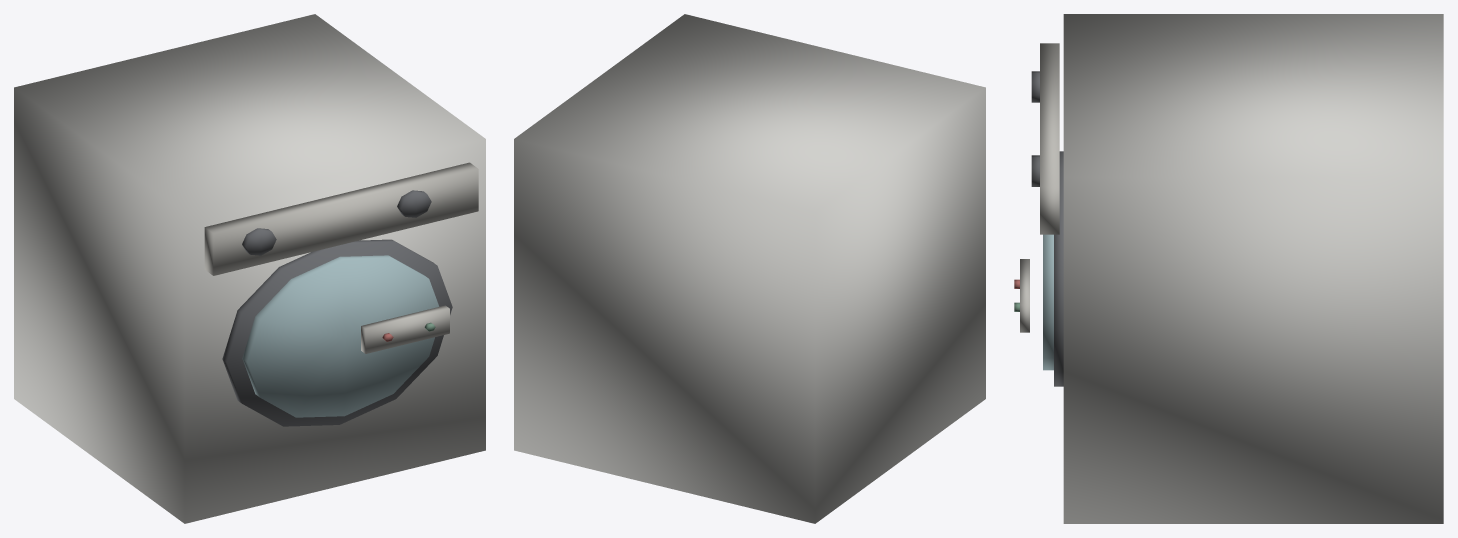
Rendered from domestic_washer__squat.glb.
3 views of the same model, side by side, from view 1: azimuth 30°, elevation 25°; view 2: azimuth 150°, elevation 25°; view 3: azimuth 270°, elevation 25° (orthographic). The views are drawn at different scales.
Visible parts, largest first — view 1: world; view 2: world; view 3: world.
Part boxes in pixels (<box>): world: <box>14,14,485,523</box>; world: <box>514,14,985,523</box>; world: <box>1014,14,1443,523</box>.
Size of the model in its own units: 0.748 by 0.7392 by 0.83.
